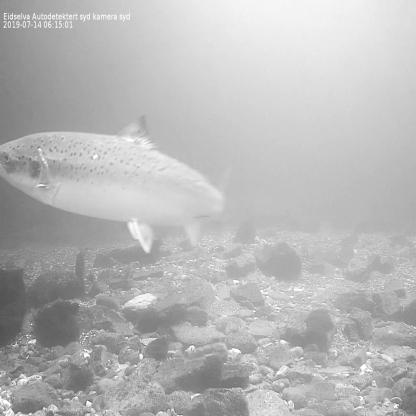salmon: (0, 111, 233, 258)
